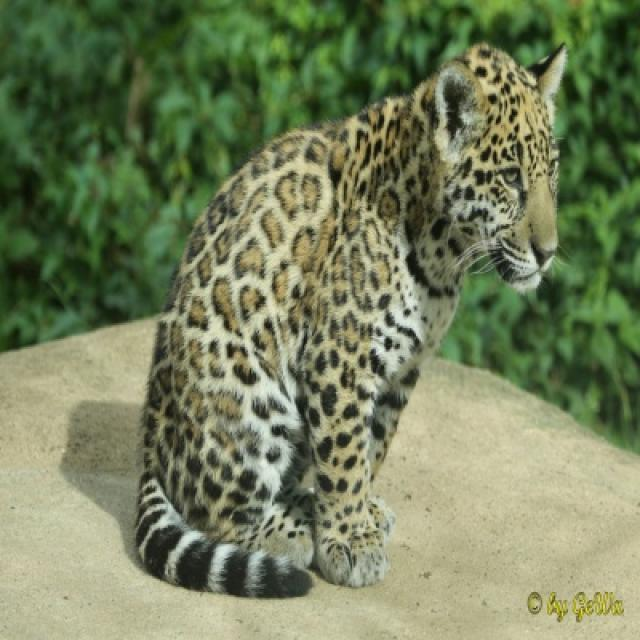Jaguar: (133, 43, 568, 602)
